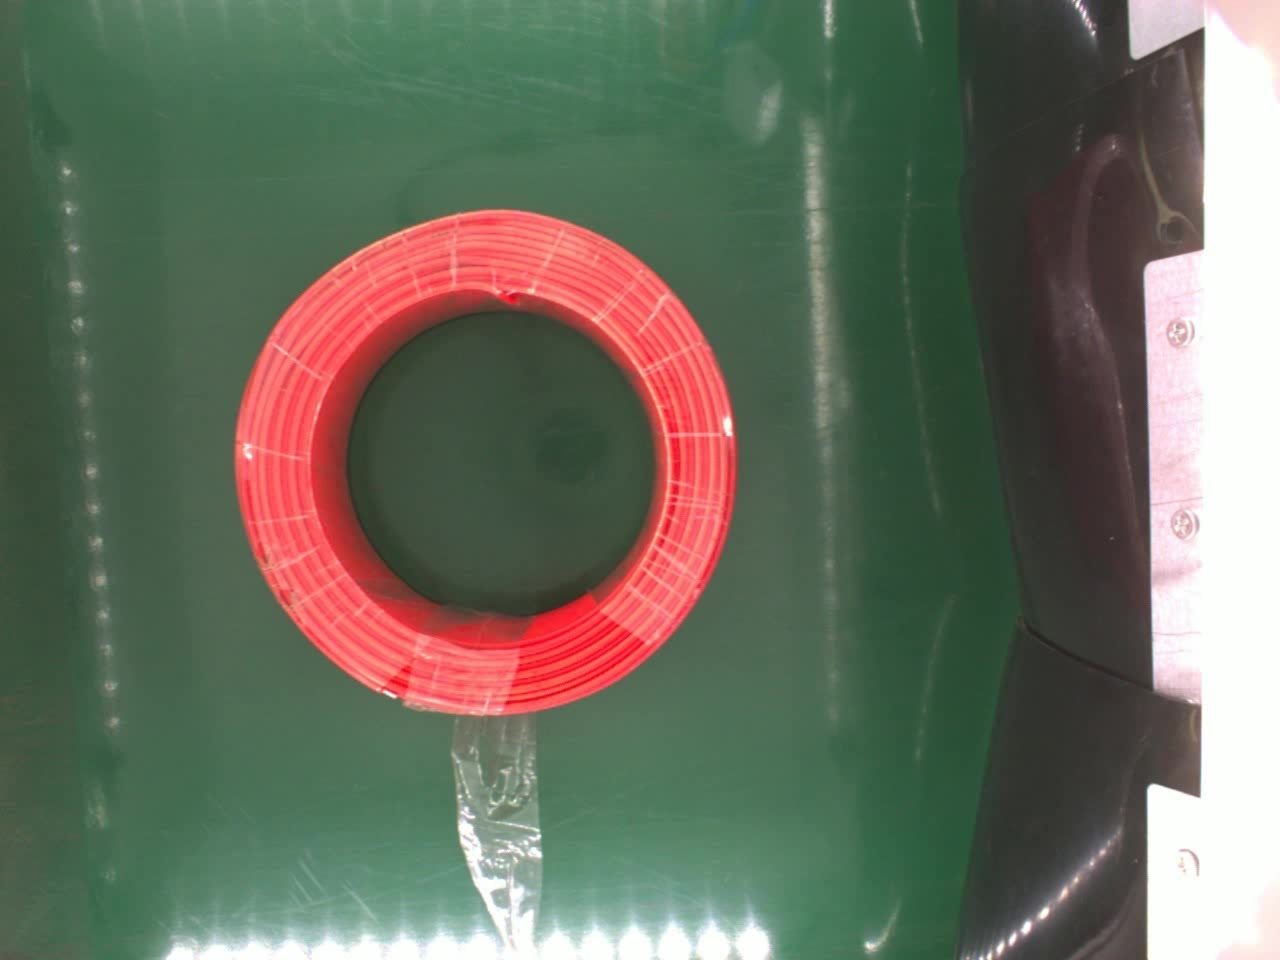red: (227, 204, 744, 718)
